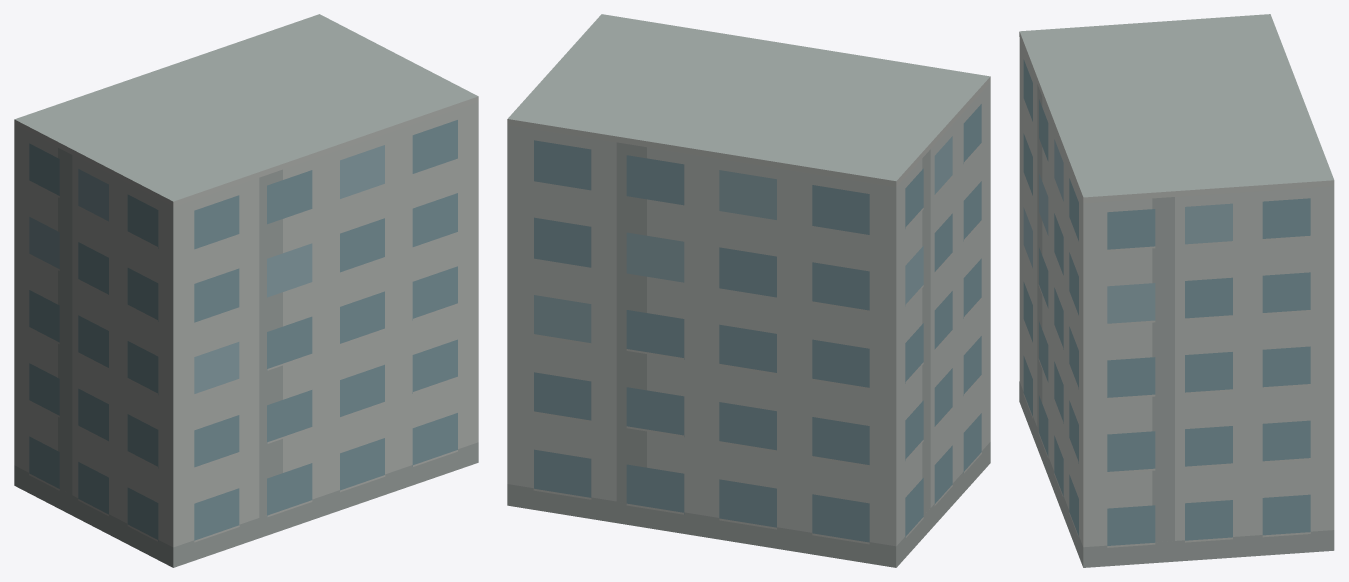
Rendered from survey-upis-33017514.glb.
3 renders of one model, left to right at view 1: azimuth 30°, elevation 25°; view 2: azimuth 150°, elevation 25°; view 3: azimuth 270°, elevation 25°, orthographic. The views are drawn at different scales.
Visible parts, largest first — view 1: survey-upis-33017514.tmp; view 2: survey-upis-33017514.tmp; view 3: survey-upis-33017514.tmp.
Part boxes in pixels (x1,y1,x2,y2): survey-upis-33017514.tmp: [14, 14, 478, 567]; survey-upis-33017514.tmp: [507, 14, 990, 567]; survey-upis-33017514.tmp: [1019, 14, 1334, 567].
Bounding box in the file's own units: 16.79 × 15.8 × 12.18.
